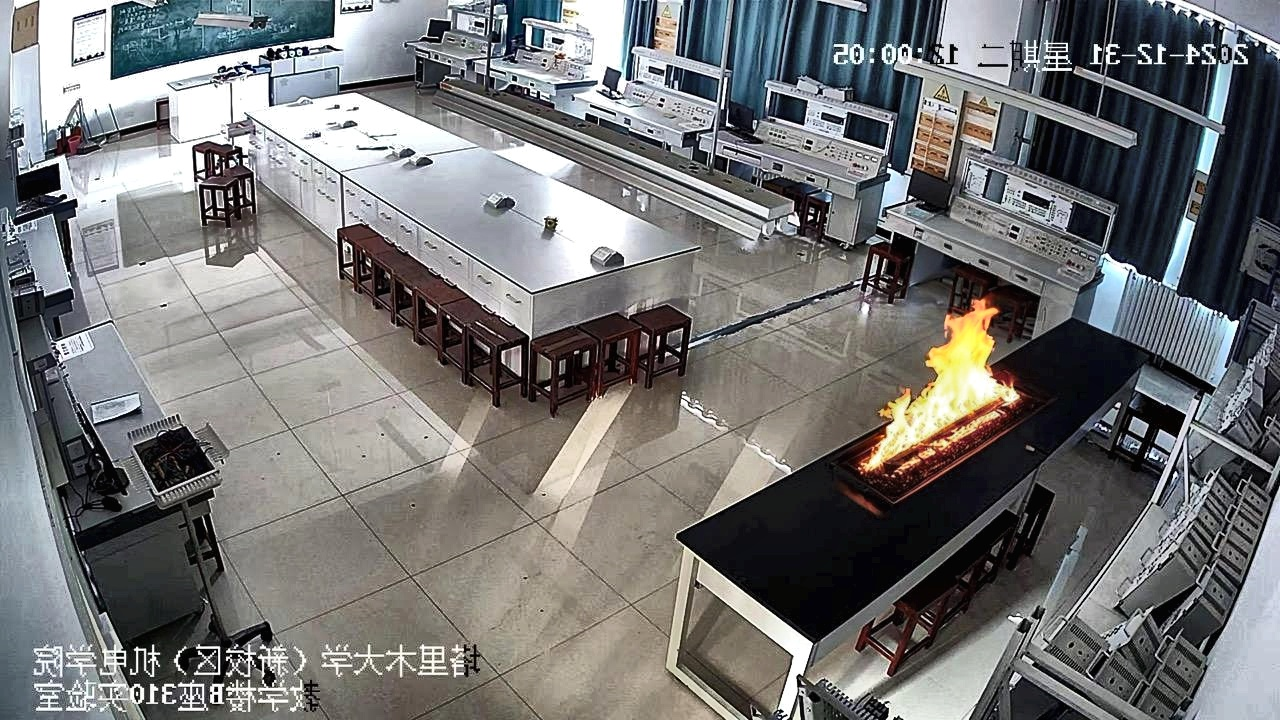fire: (852, 293, 1028, 474)
